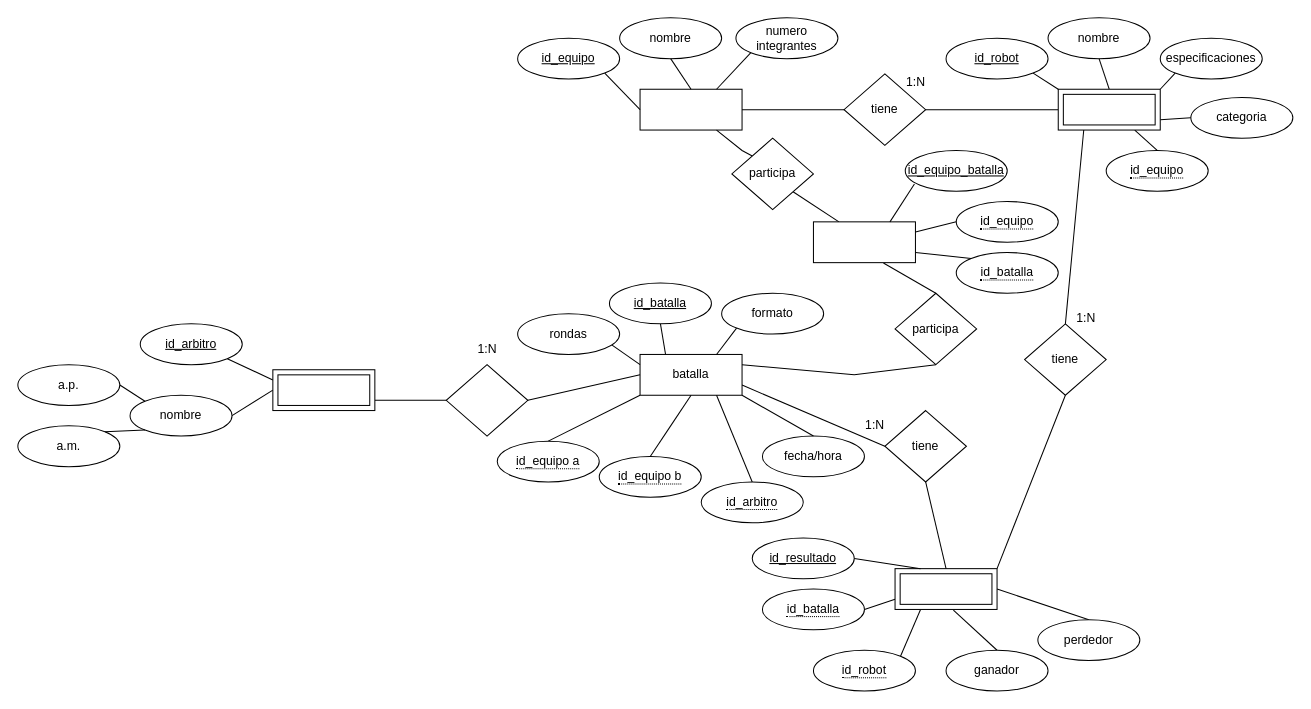
This 1311x709 diagram has some shape labels left out. Each missing label, with the centre of its shape:
arbitro: point 323,390
controla: point 486,400
equipo: point 690,109
equipo_batalla: point 863,242
resultado: point 945,588
robot: point 1108,109
